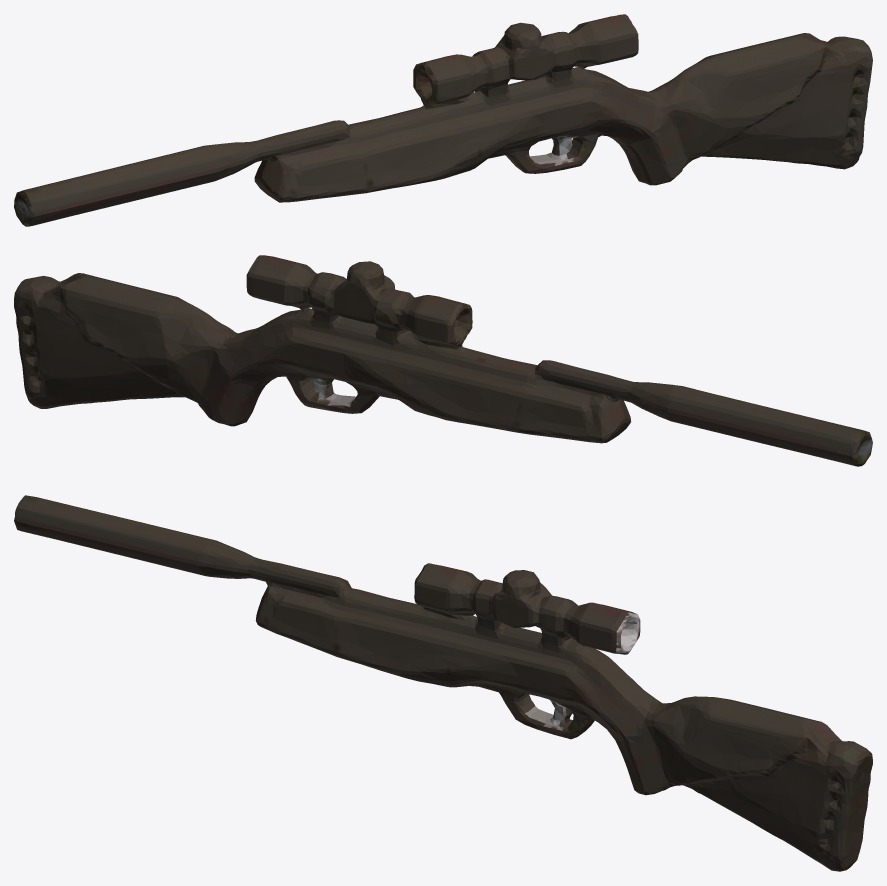
The picture shows the model from 3 angles, top to bottom: view 1: azimuth 30°, elevation 25°; view 2: azimuth 150°, elevation 25°; view 3: azimuth 330°, elevation 25°; orthographic projection.
Parts seen in each view (by area): view 1: tmpmcx2sz2z.ply; view 2: tmpmcx2sz2z.ply; view 3: tmpmcx2sz2z.ply.
Boxes of the visible parts, left/top/right/bottom form: tmpmcx2sz2z.ply: left=14, top=14, right=872, bottom=226; tmpmcx2sz2z.ply: left=14, top=255, right=872, bottom=466; tmpmcx2sz2z.ply: left=14, top=495, right=872, bottom=871.
Size of the model in its own units: 1.99 by 0.4956 by 0.1438.
1 material, 1 textured.
